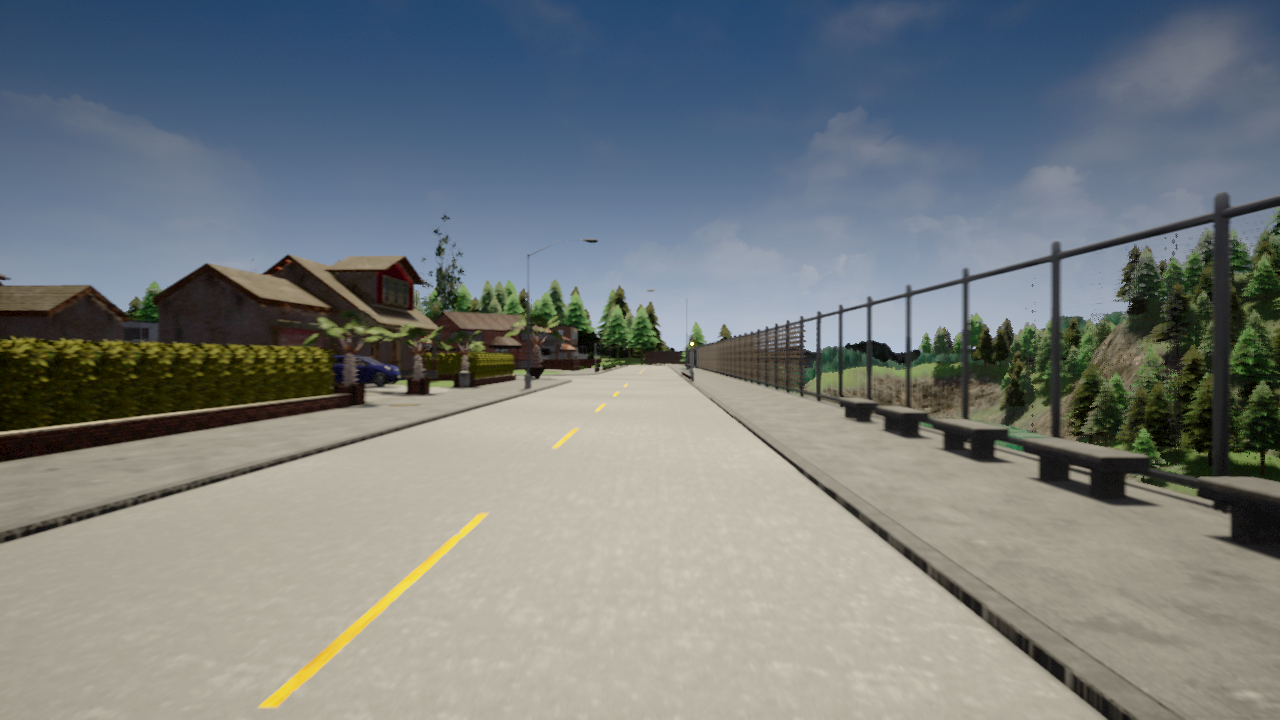yellow: (688, 336, 695, 352)
